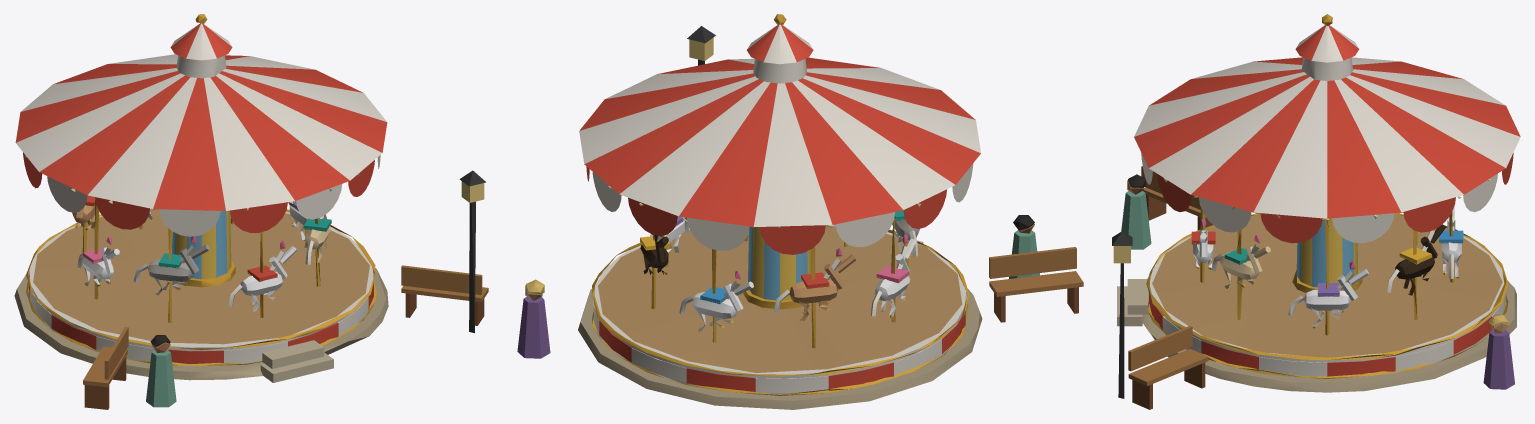
File: village_carousel.glb
3 views of the same model, side by side, from view 1: azimuth 30°, elevation 25°; view 2: azimuth 150°, elevation 25°; view 3: azimuth 270°, elevation 25° (orthographic). The views are drawn at different scales.
Visible parts, largest first — view 1: town-village_carousel; view 2: town-village_carousel; view 3: town-village_carousel.
Boxes of the visible parts, left/top/right/bottom form: town-village_carousel: left=14, top=14, right=488, bottom=409; town-village_carousel: left=517, top=14, right=1083, bottom=409; town-village_carousel: left=1112, top=14, right=1520, bottom=409.
Bounding box in the file's own units: 7.19 × 4.93 × 6.18.
